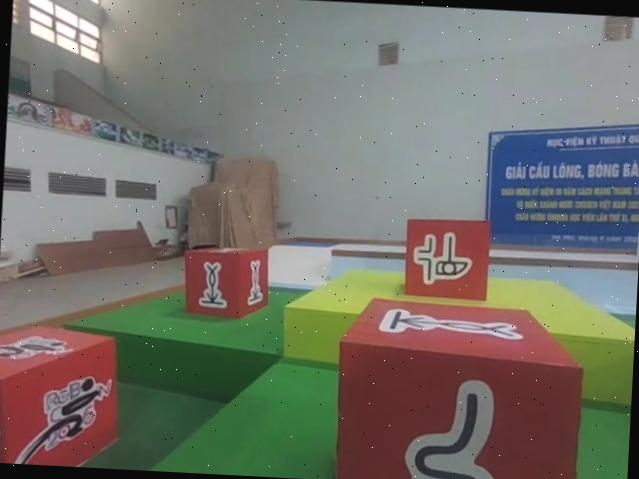R1: (0, 317, 134, 469)
R2 Fake: (331, 292, 585, 479)
R2 Real: (400, 215, 491, 305), (181, 239, 274, 319)
